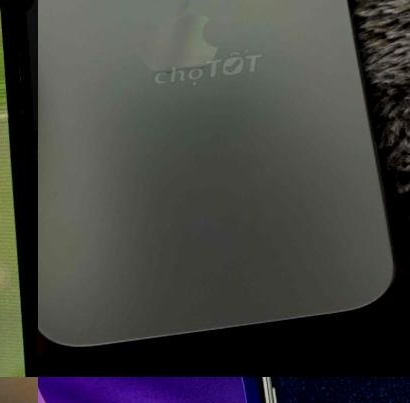screen_defect: (0, 132, 28, 306), (0, 275, 38, 377), (0, 0, 11, 165)
